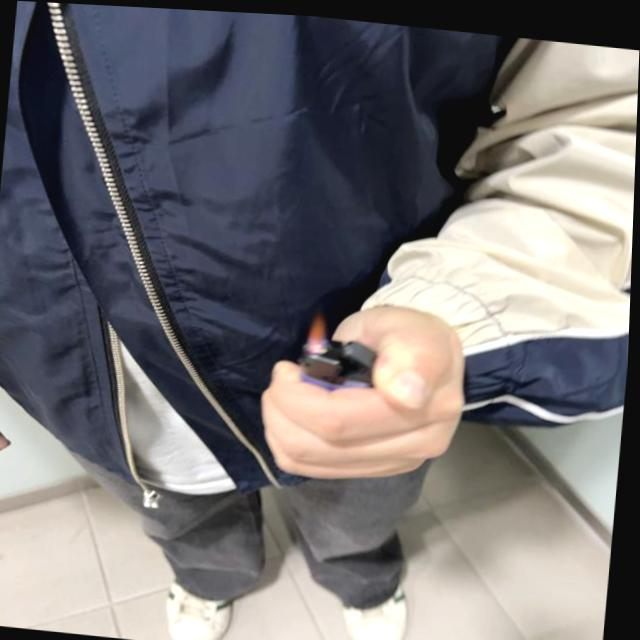Fire: (307, 309, 332, 351)
